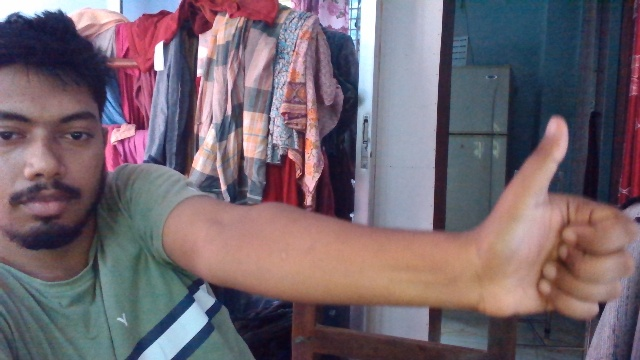yes: (505, 111, 633, 338)
